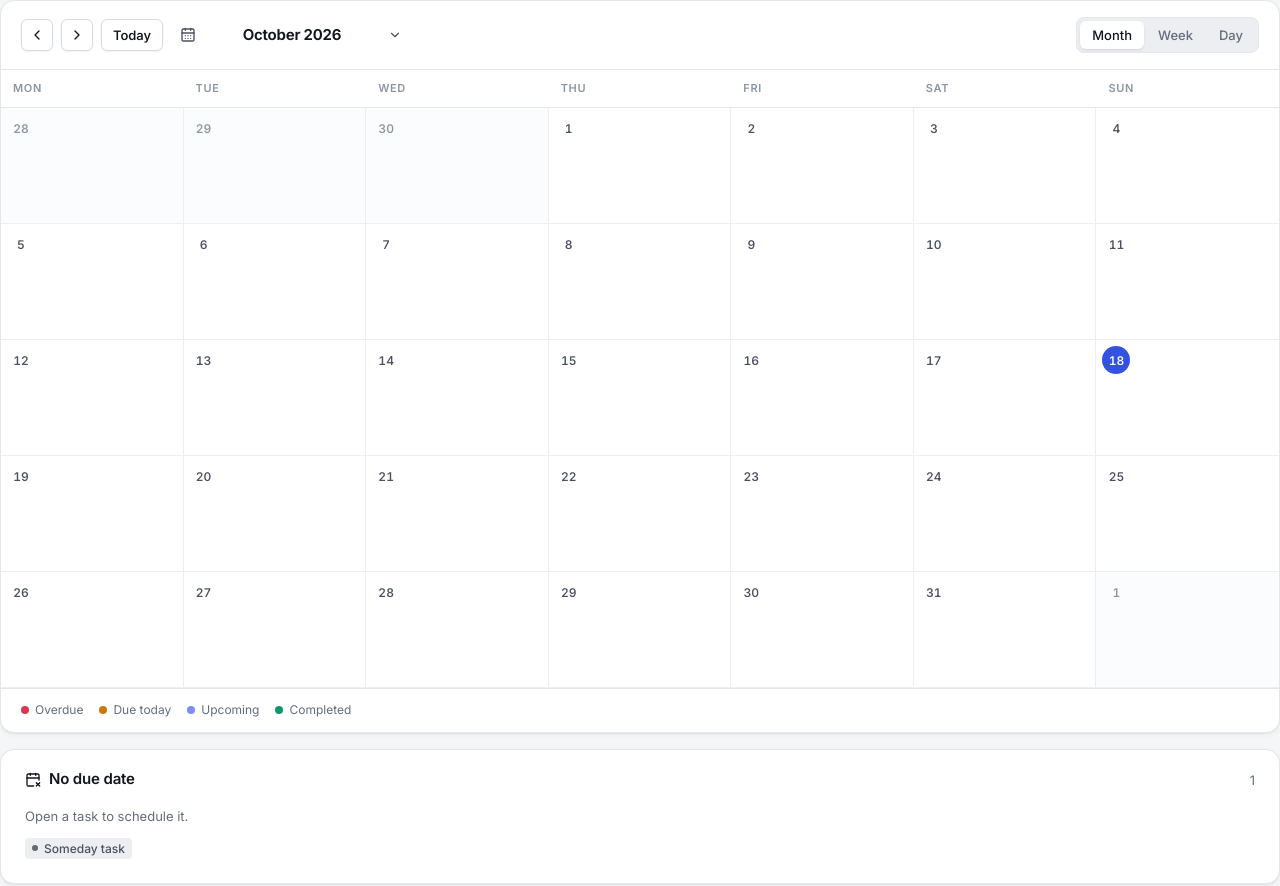
Test: TaskCalendar jump to date › jumps straight to a month and year in month view
Click the button with aria-label "Jump to date" at (291, 35), box x1=171 y1=18 x2=411 y2=52
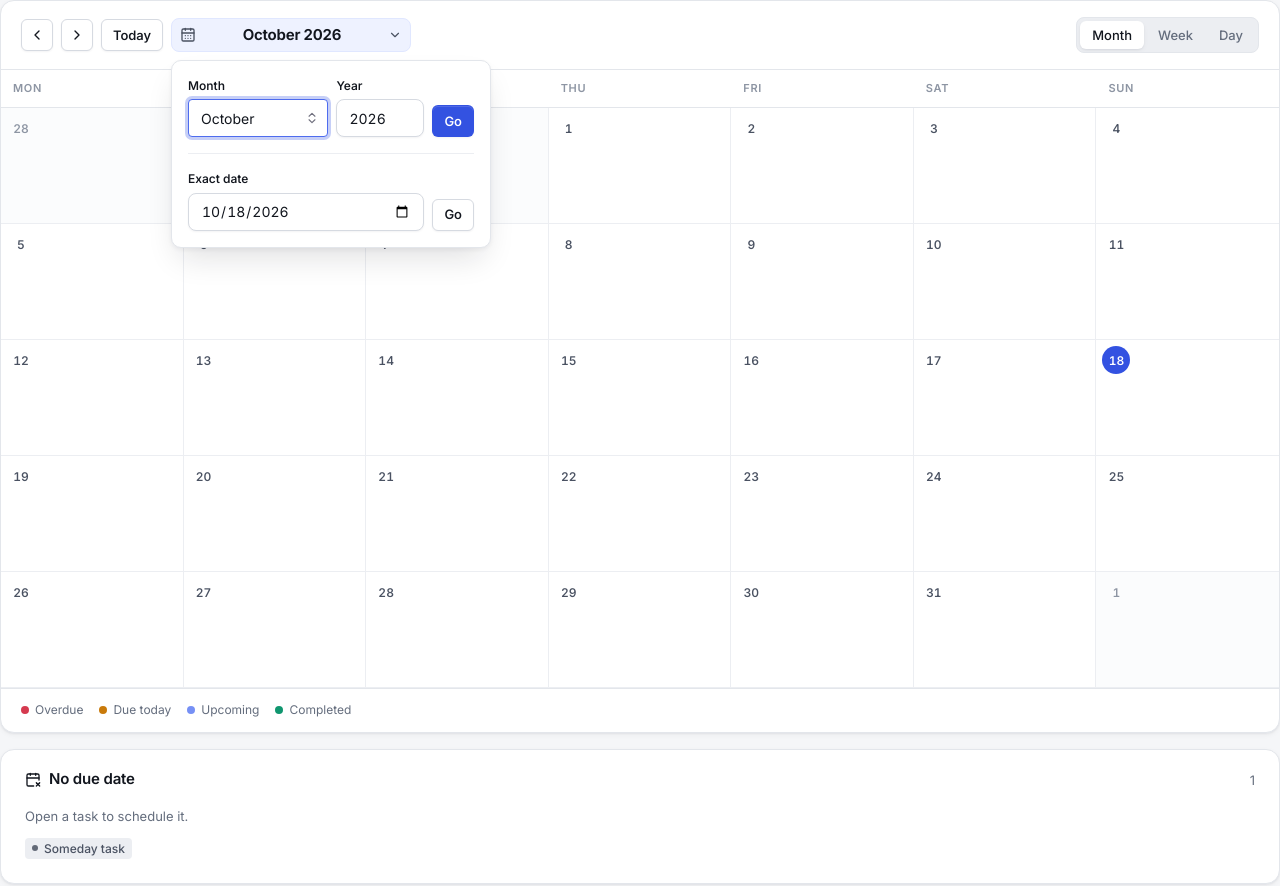
Select "March" in the dropdown labelled "Month" at (258, 118), box x1=188 y1=99 x2=328 y2=137
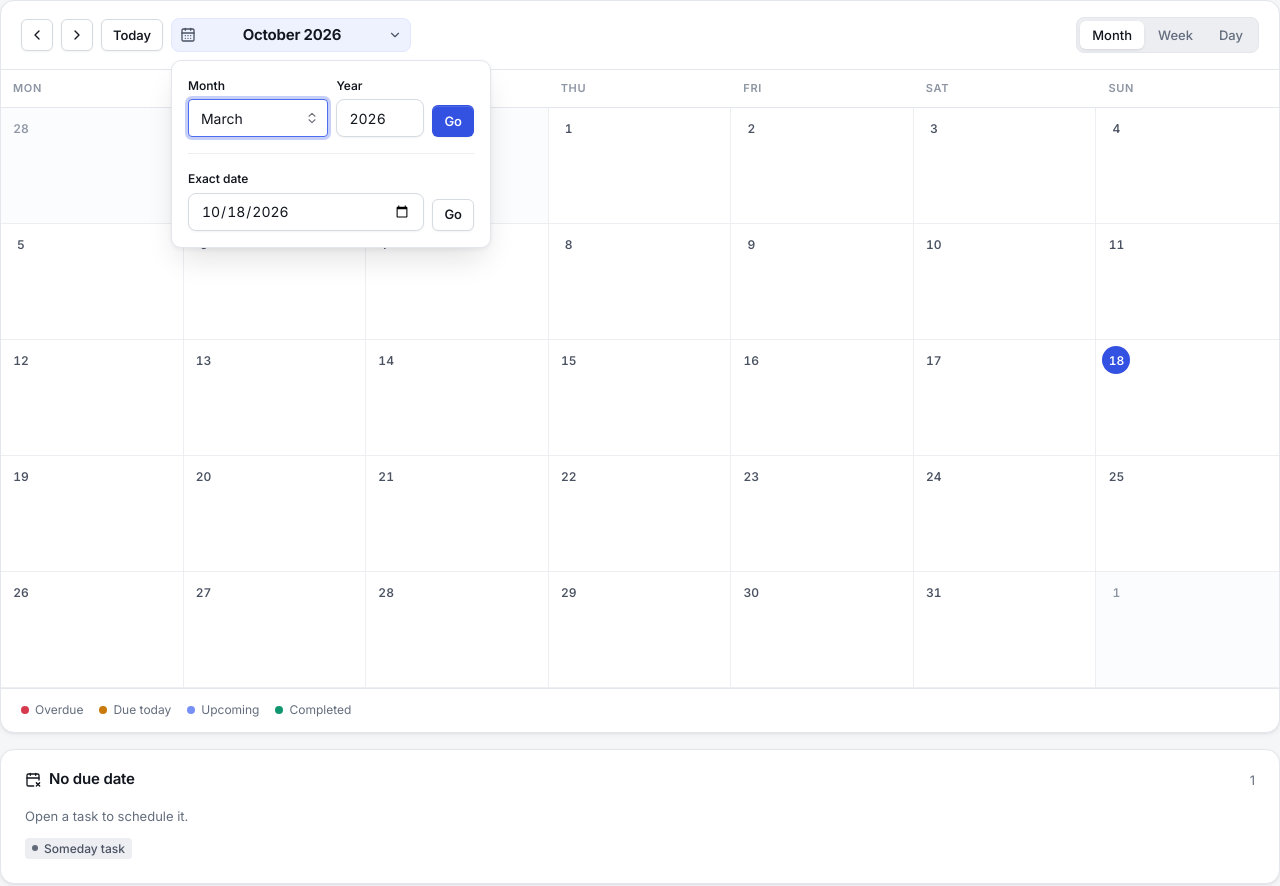
Replace the text in the number field labelled "Year" with "2031" at (380, 118), box x1=336 y1=99 x2=424 y2=137
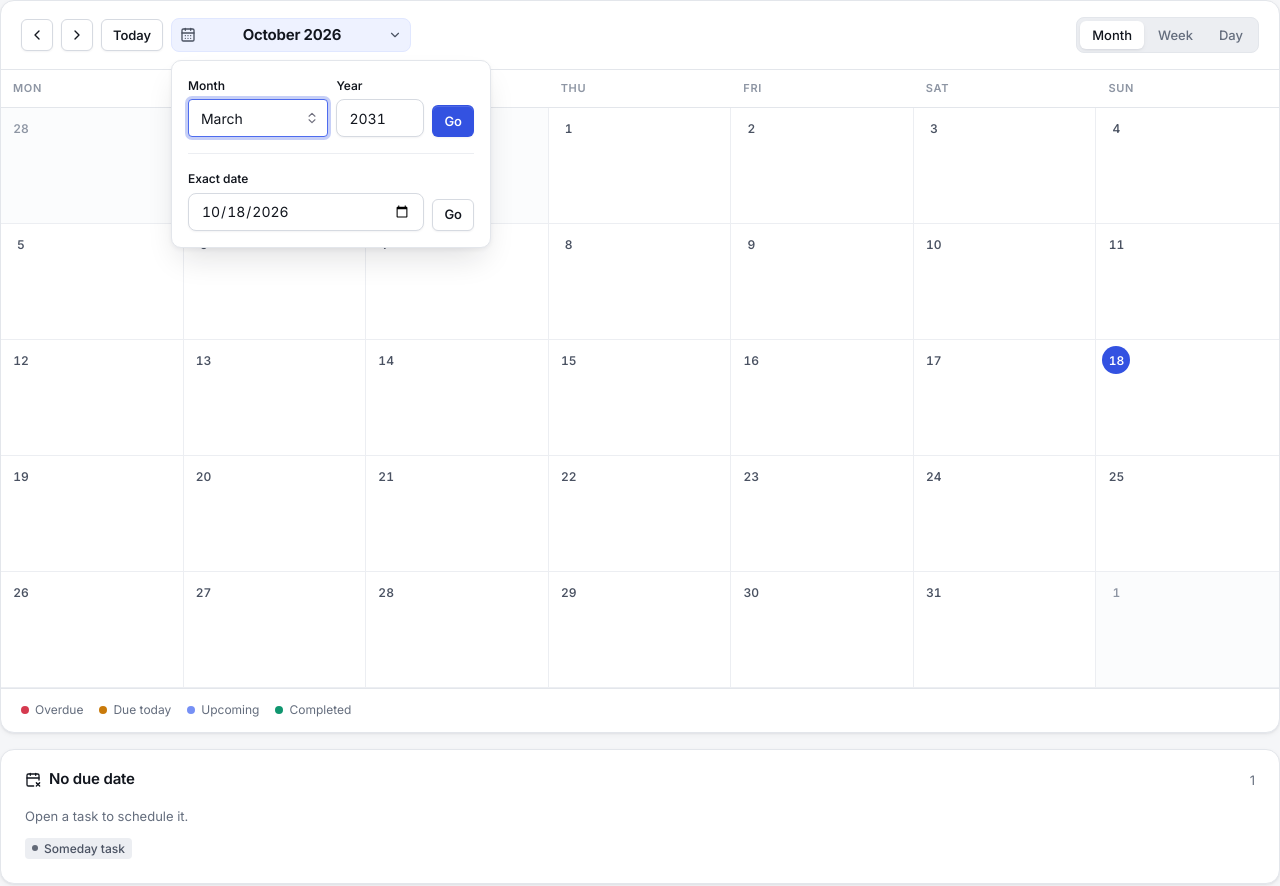
Click the button "Go" below "Year" at (453, 121), box x1=432 y1=105 x2=474 y2=137
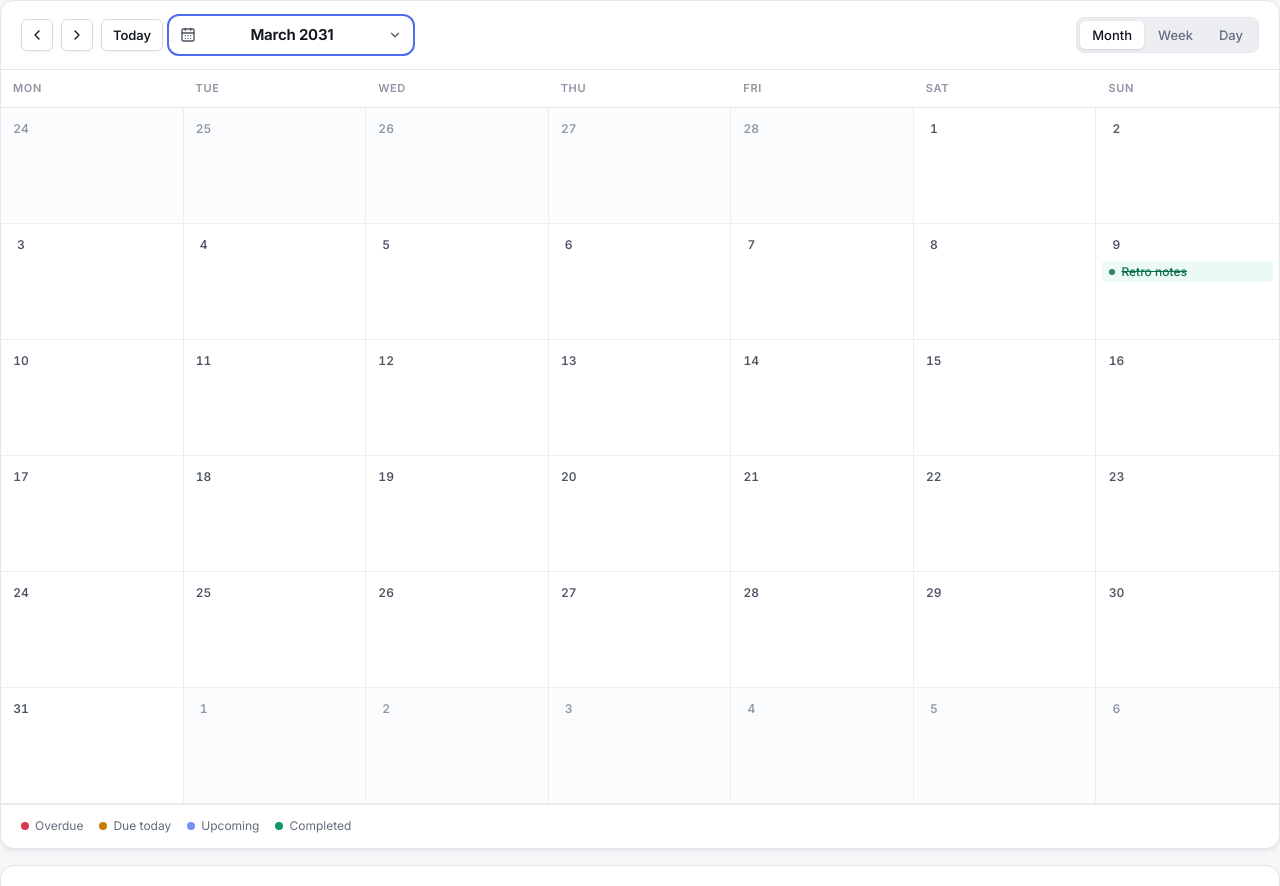
Expected: the dialog is gone
Expected: the button with aria-label "Jump to date" reads "March 2031", x1=171 y1=18 x2=411 y2=52
